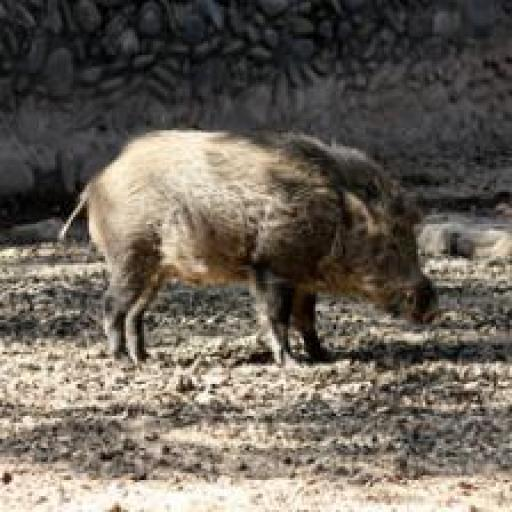Pig: (59, 128, 447, 382)
